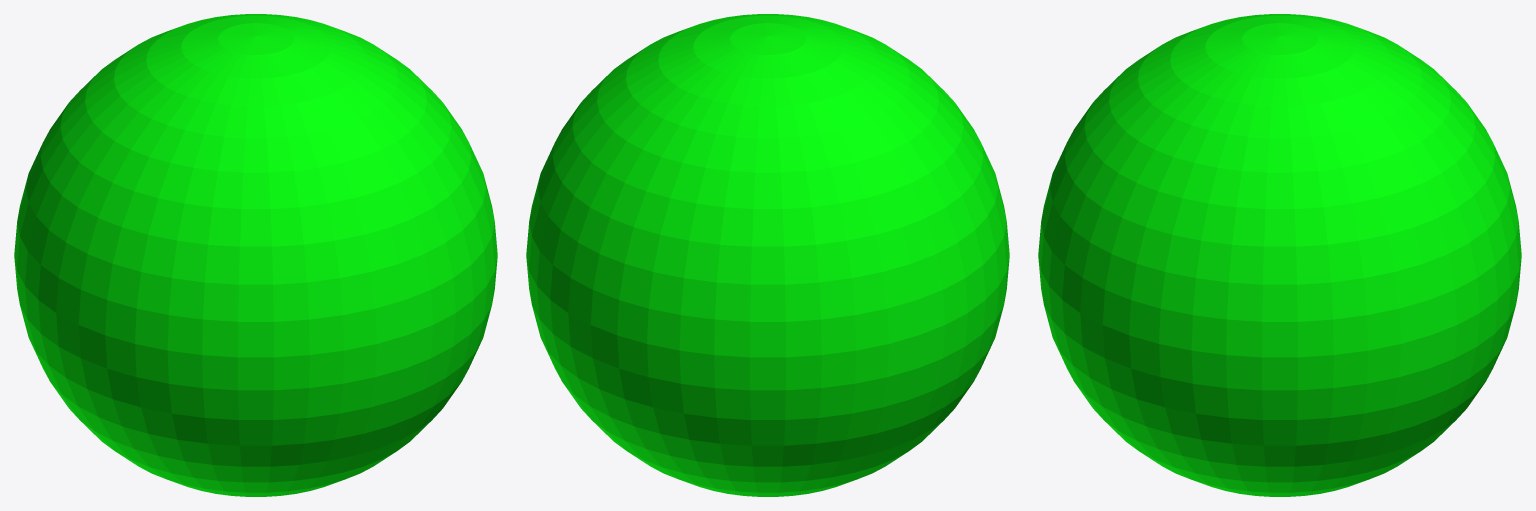
Rendered from auto.obj.
3 renders of one model, left to right at view 1: azimuth 30°, elevation 25°; view 2: azimuth 150°, elevation 25°; view 3: azimuth 270°, elevation 25°, orthographic.
Visible parts, largest first — view 1: Sphere; view 2: Sphere; view 3: Sphere.
Part boxes in pixels (bbox=[...]): Sphere: bbox=[14, 14, 497, 496]; Sphere: bbox=[526, 14, 1009, 496]; Sphere: bbox=[1038, 14, 1521, 496].
Size of the model in its own units: 5.98 by 6 by 6.
Materials: 1 (1 with a texture image).
